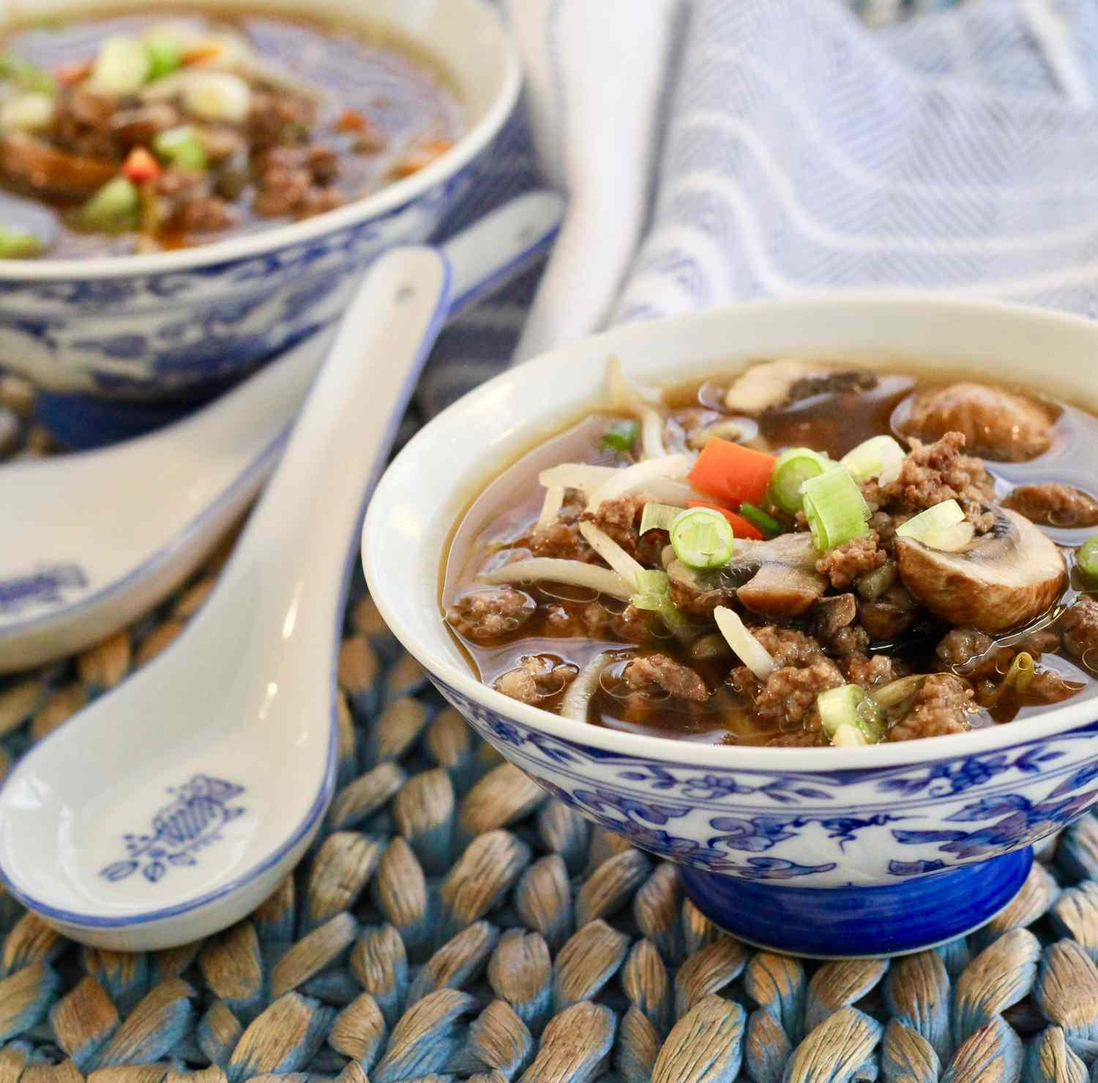Braised Crucian Carp: (362, 291, 1086, 945), (4, 0, 542, 415)
